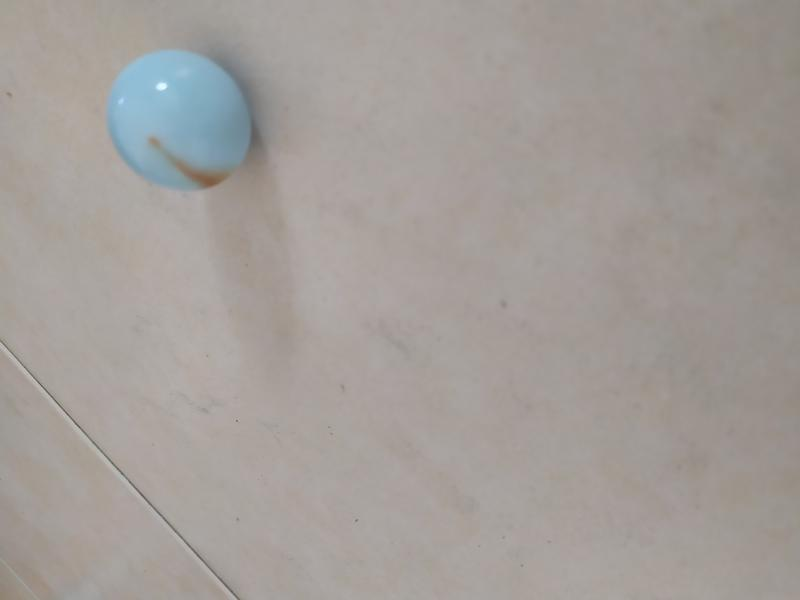Warning: (101, 47, 257, 195)
